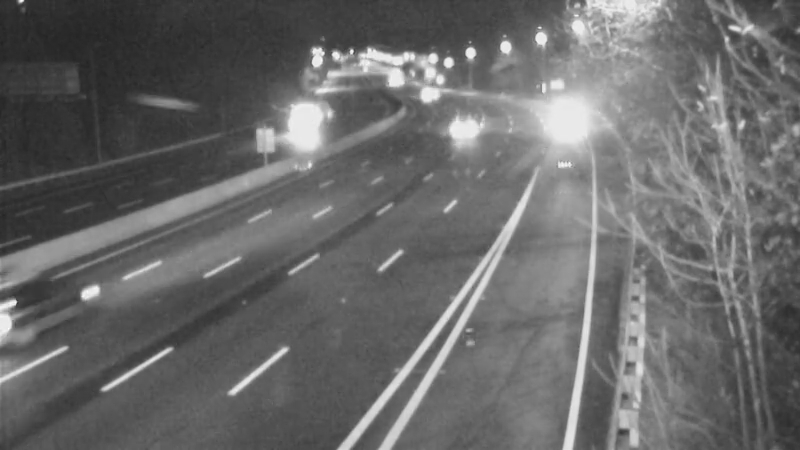vehicle: (1, 246, 106, 356), (401, 70, 451, 120), (434, 96, 484, 146), (539, 108, 589, 158), (280, 97, 330, 147)
